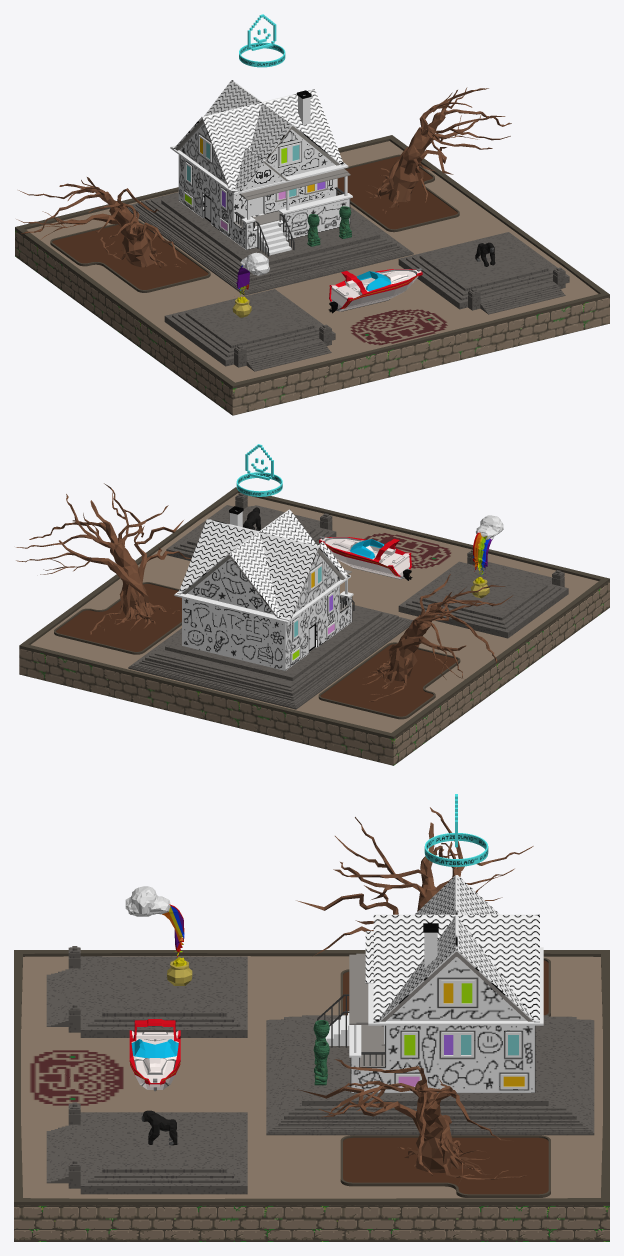
3 renders of one model, top to bottom at view 1: azimuth 30°, elevation 25°; view 2: azimuth 150°, elevation 25°; view 3: azimuth 270°, elevation 25°, orthographic. The views are drawn at different scales.
Visible parts, largest first — view 1: Cube.011, Cube.879, VEHICLES_BOAT, OBJRANDOM_RAINBOW, TYPE_PREMIUM; view 2: Cube.011, Cube.879, VEHICLES_BOAT, OBJRANDOM_RAINBOW, TYPE_PREMIUM; view 3: Cube.011, Cube.879, VEHICLES_BOAT, OBJRANDOM_RAINBOW, TYPE_PREMIUM, ANIMAL_GORILA.
Boxes of the visible parts, <box> form: Cube.011: <box>15,87,609,415</box>; Cube.879: <box>170,80,352,256</box>; VEHICLES_BOAT: <box>328,268,422,313</box>; OBJRANDOM_RAINBOW: <box>232,252,269,317</box>; TYPE_PREMIUM: <box>239,14,285,67</box>; Cube.011: <box>16,483,609,765</box>; Cube.879: <box>174,506,354,670</box>; VEHICLES_BOAT: <box>319,536,412,580</box>; OBJRANDOM_RAINBOW: <box>471,515,503,598</box>; TYPE_PREMIUM: <box>236,444,282,496</box>; Cube.011: <box>14,807,609,1241</box>; Cube.879: <box>317,875,543,1092</box>; VEHICLES_BOAT: <box>129,1019,180,1091</box>; OBJRANDOM_RAINBOW: <box>125,886,192,985</box>; TYPE_PREMIUM: <box>424,794,488,866</box>; ANIMAL_GORILA: <box>141,1110,177,1145</box>.
Size of the model in its own units: 5099 by 2475 by 4000.
Materials: 39 (13 with a texture image).
